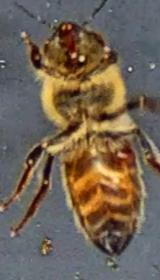varroa_mite: (100, 136, 150, 172)
